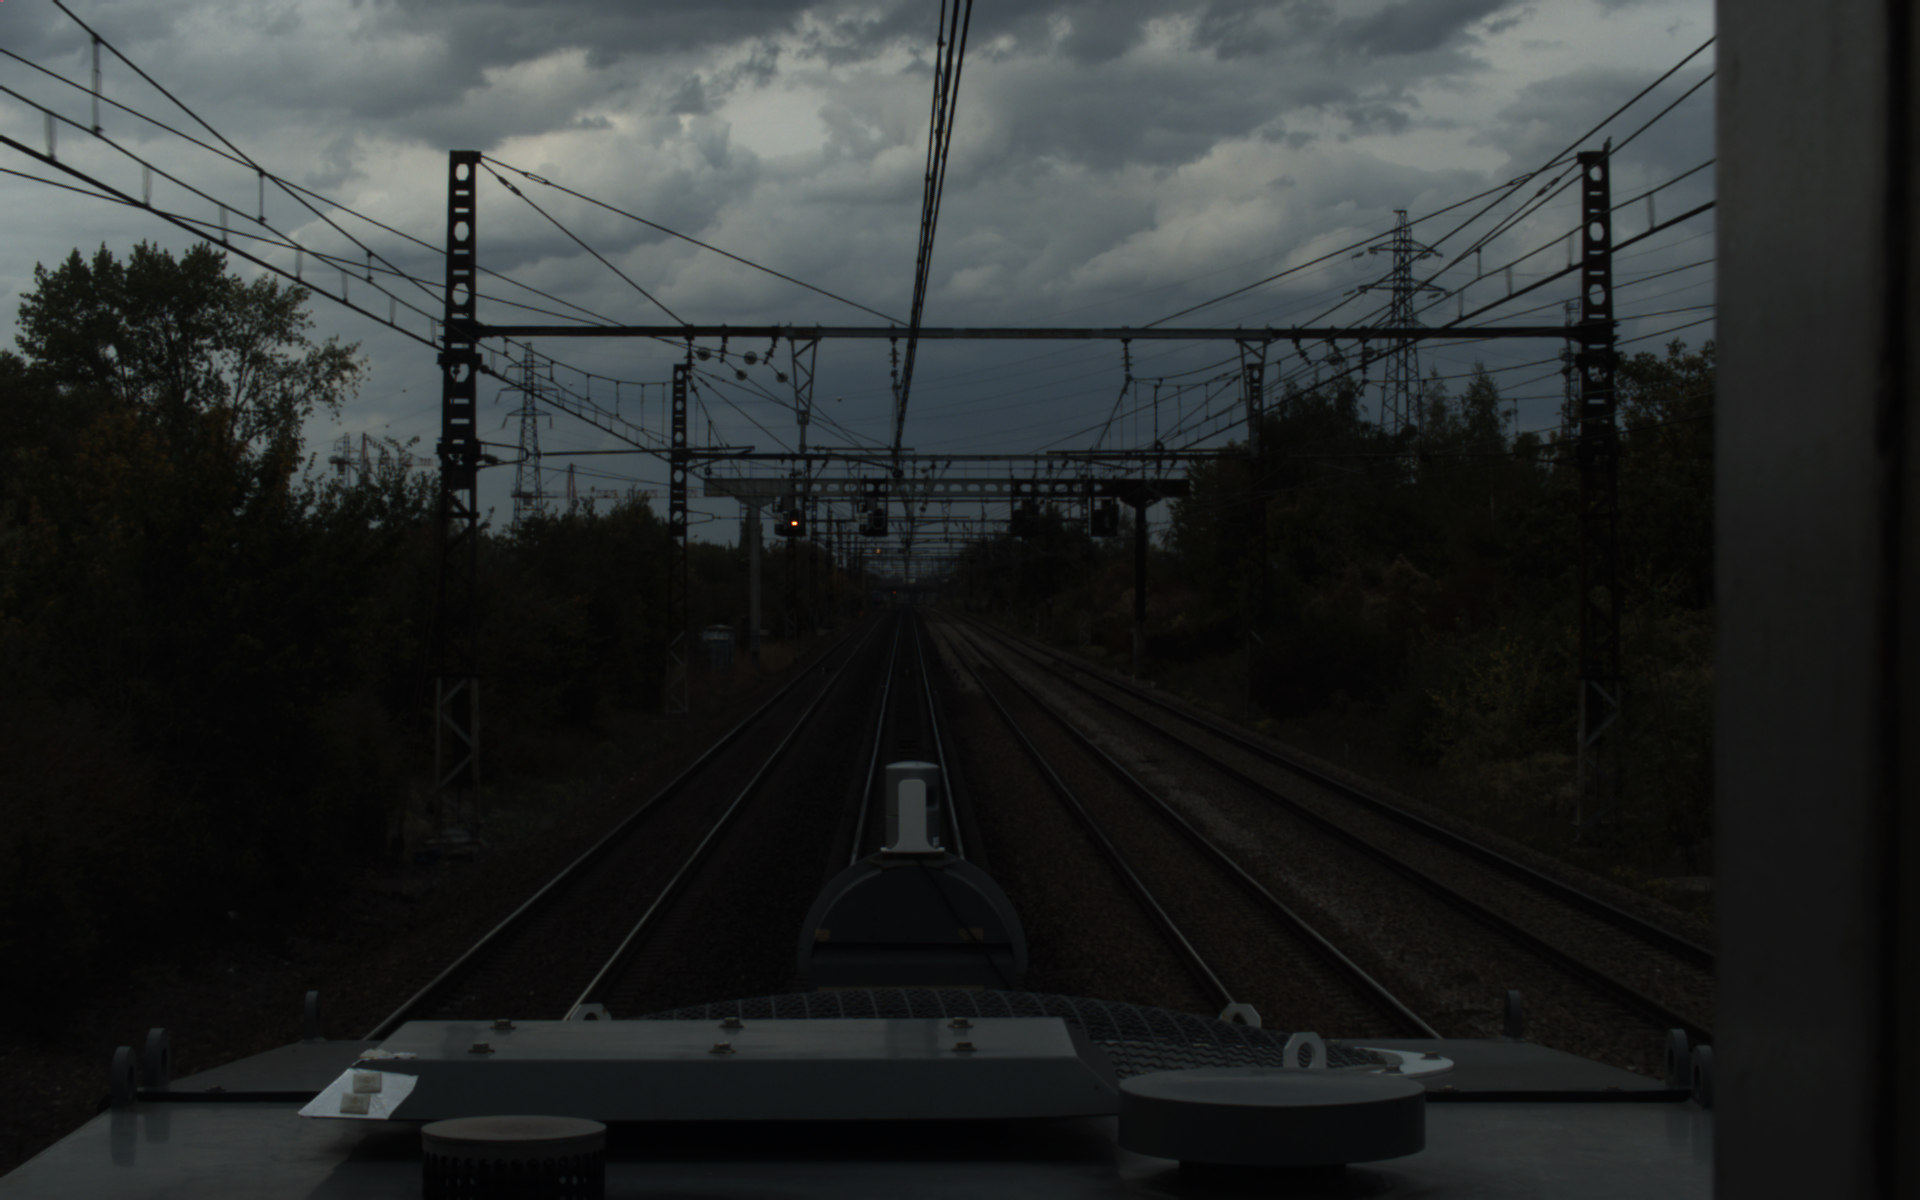Blinking: (869, 505, 886, 529)
Fixed: (785, 505, 802, 531)
